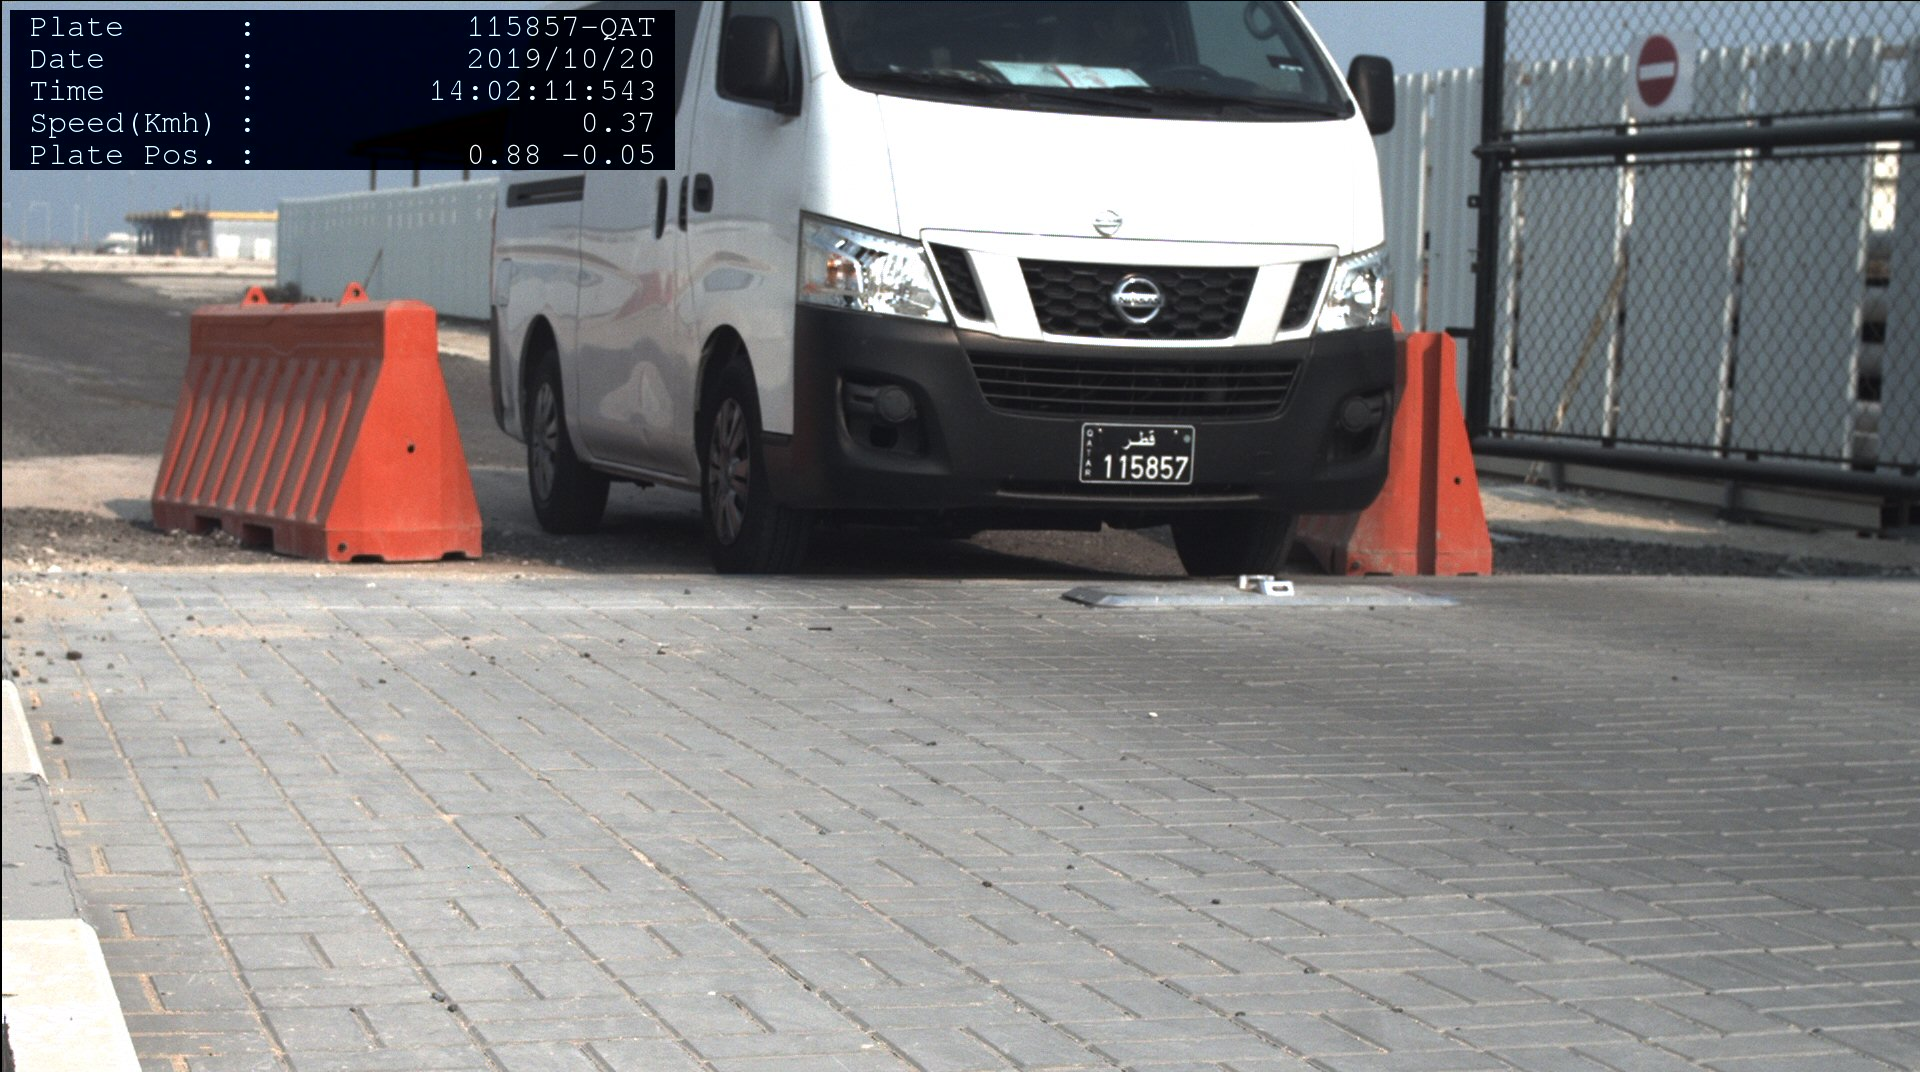License Plate: (1084, 425, 1193, 485)
